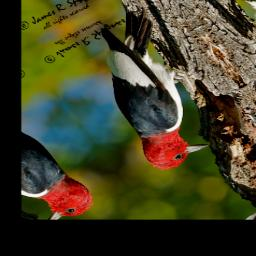Woodpecker: (59, 2, 245, 177)
